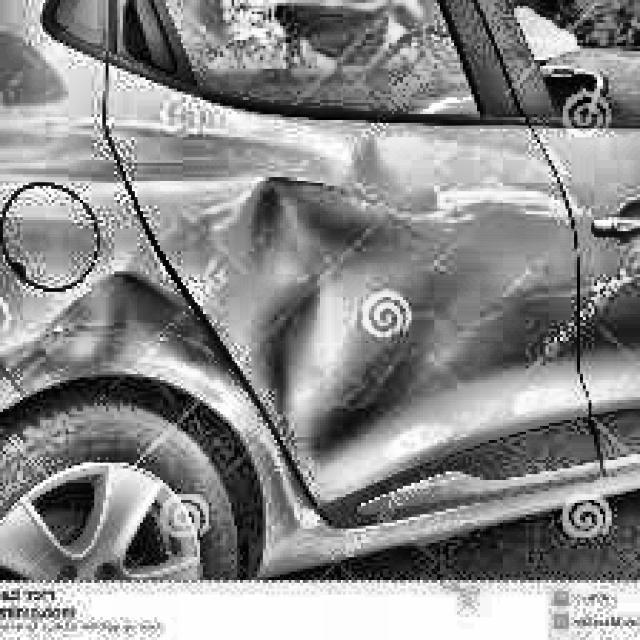door_dent: (87, 182, 435, 449)
